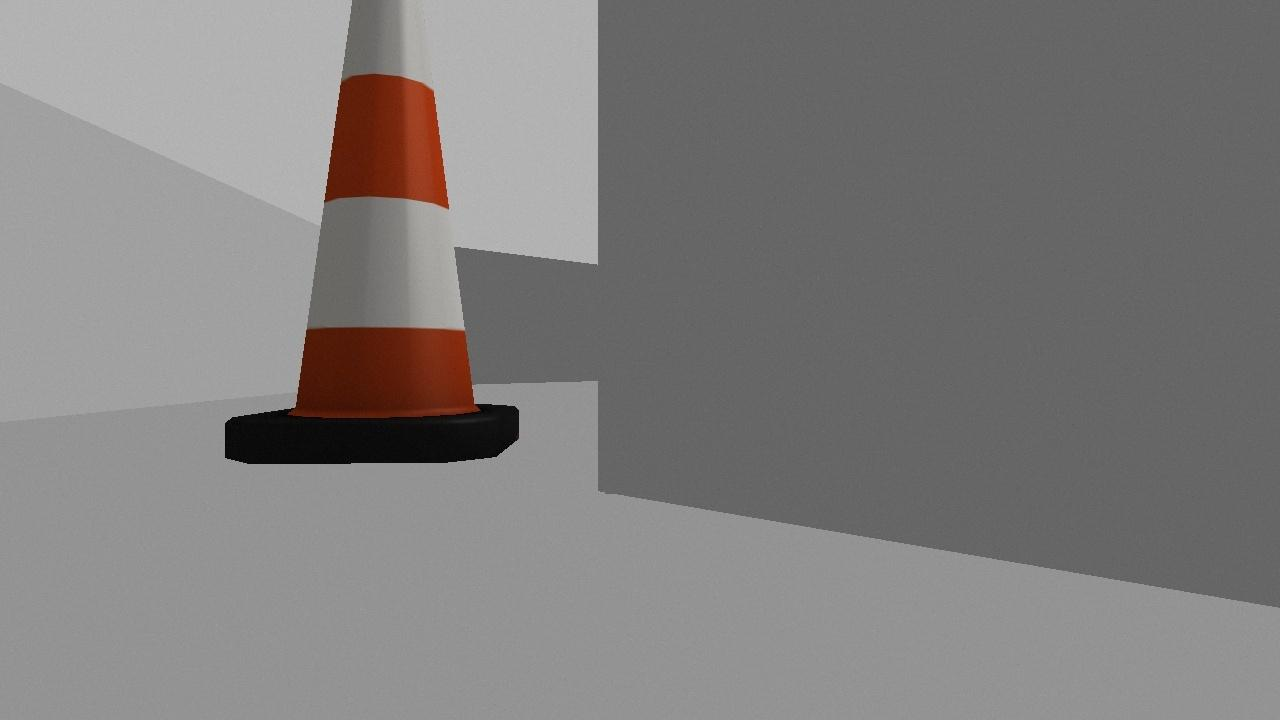cone_barrel: (221, 0, 521, 463)
